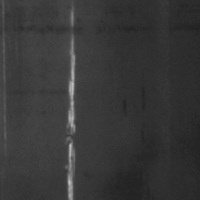scratches: (63, 6, 81, 200)
